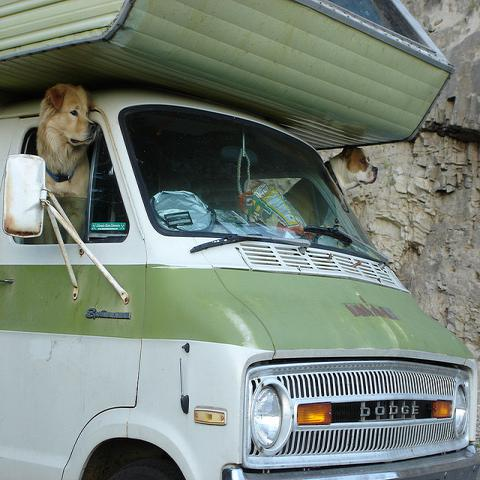truck: (2, 2, 480, 475)
